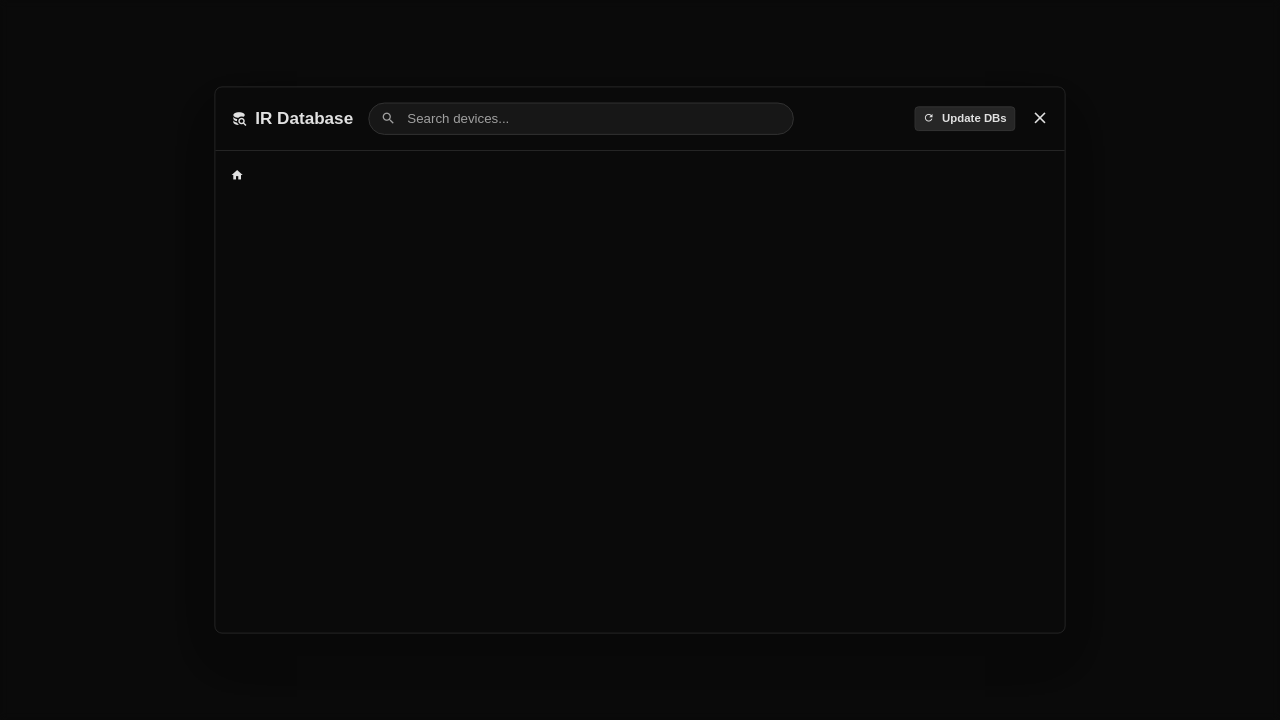
Test: IrDbPicker.vue › navigates from search result (directory) to directory view and then back to root
The width and height of the screenshot is (1280, 720).
In the field with placeholder "Search devices...": [596, 119] box left=400, top=104, right=793, bottom=134, type "searchterm"
Wait 400 ms
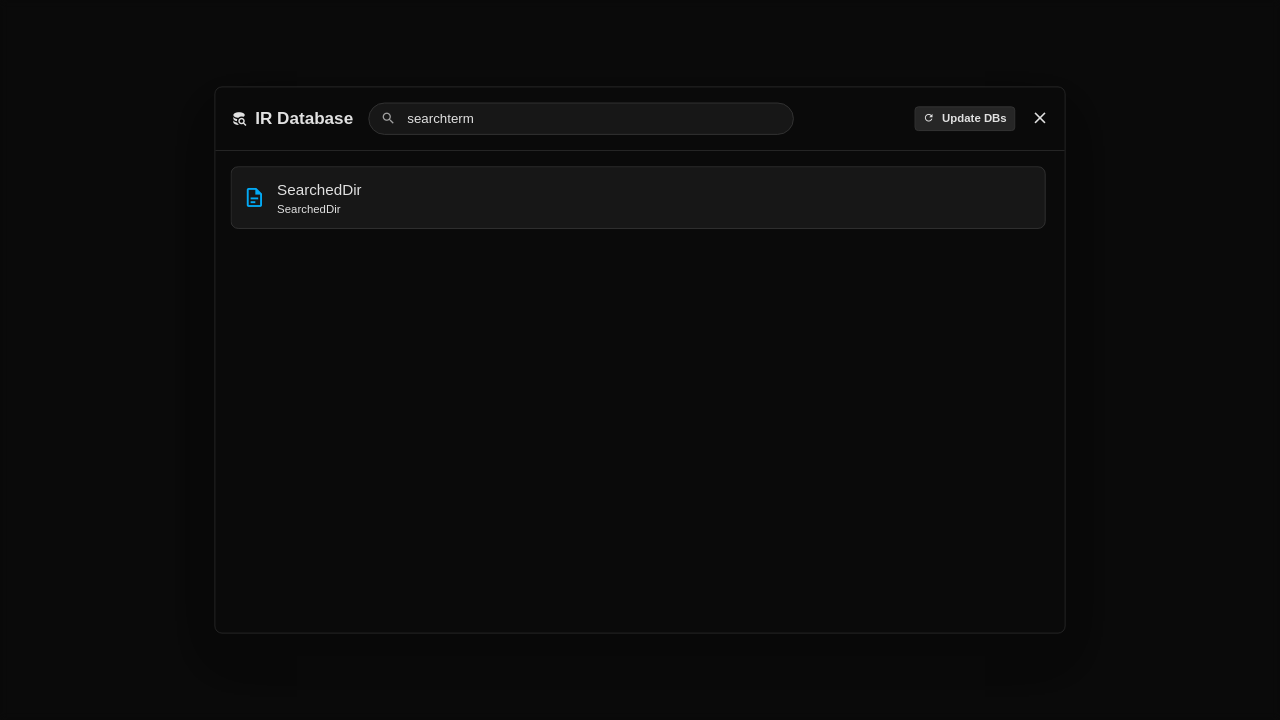
Now the text "SearchedDir" is shown, box left=277, top=178, right=362, bottom=201
Now the element with class "items-center" showing "SearchedDir SearchedDir" is shown
Click the element with class "items-center" showing "SearchedDir SearchedDir": [638, 198] box left=230, top=166, right=1046, bottom=229
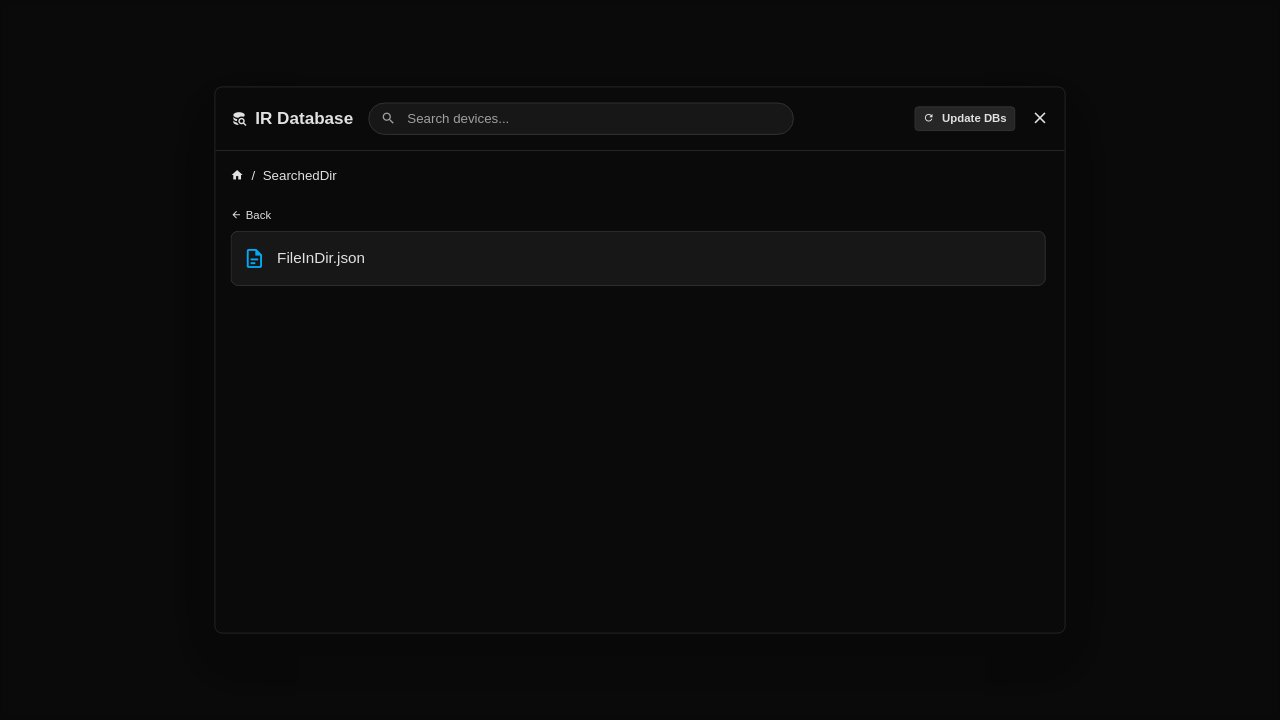
Now the text "FileInDir.json" is shown, box left=277, top=247, right=365, bottom=270
# Click "Back" button
Click the icon with class "mdi-arrow-left": [236, 216] box left=230, top=208, right=242, bottom=223
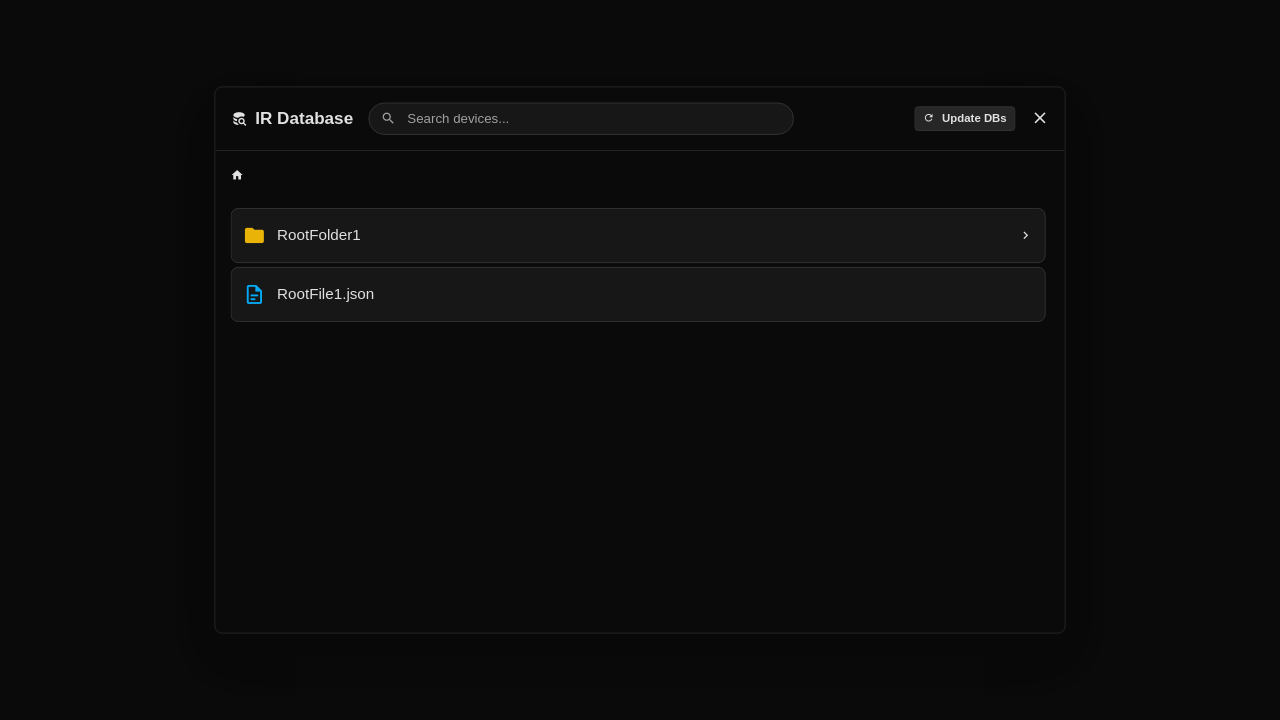
Now the text "FileInDir.json" is gone
Now the text "RootFolder1" is shown, box left=277, top=224, right=361, bottom=247
Now the text "RootFile1.json" is shown, box left=277, top=283, right=374, bottom=306
